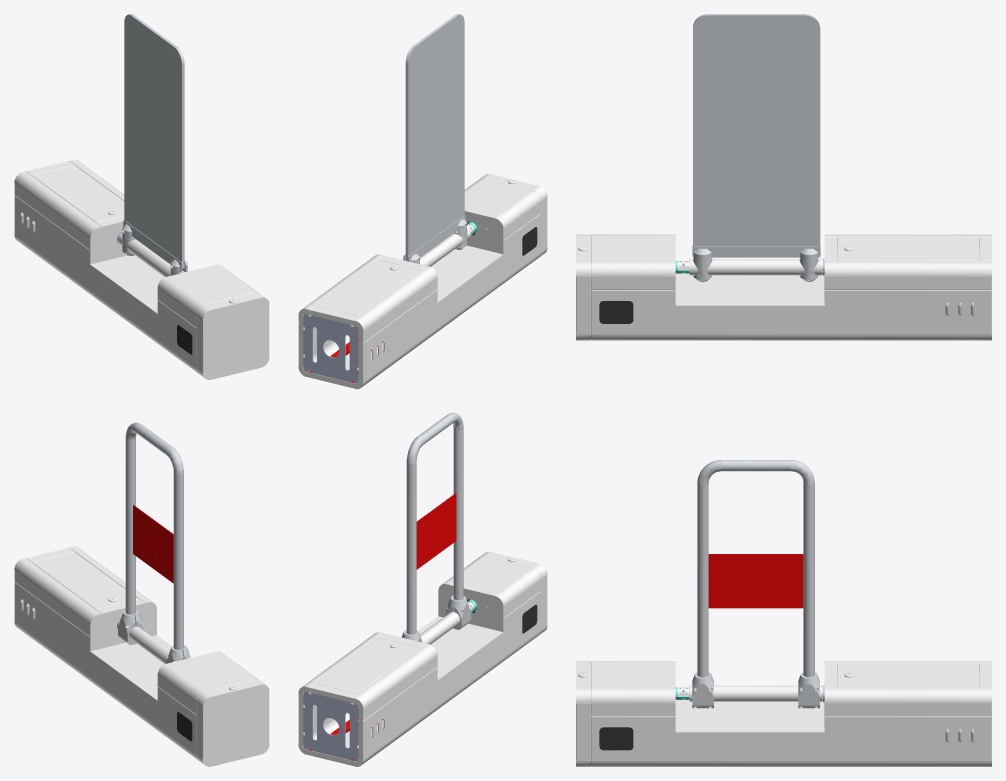
The picture shows the model from 3 angles, left to right: view 1: azimuth 30°, elevation 25°; view 2: azimuth 150°, elevation 25°; view 3: azimuth 270°, elevation 25°; orthographic projection. The views are drawn at different scales.
Parts seen in each view (by area): view 1: SOLID_5, X310-01-01-01-01, X310-01-01-01-01_2, X310-01-01-01-09, X310-01-01-01-09_2, X310-01-01-01-03_2, X310-01-01-01-03, X310-01-01-01-02_2, X310-01-01-01-02, X310-01-01-01-07_2, X310-01-01-01-07, X310-01-01-01-04_3 (+10 smaller); view 2: SOLID_5, X310-01-01-01-01, X310-01-01-01-01_2, X310-01-01-01-03_2, X310-01-01-01-03, X310-01-01-01-02_2, X310-01-01-01-12_2, X310-01-01-01-12, X310-01-01-01-02, X310-01-01-01-07, X310-01-01-01-07_2, X310-01-01-01-04_3 (+13 smaller); view 3: SOLID_5, X310-01-01-01-01_2, X310-01-01-01-01, X310-01-01-03, X310-01-01-01-04_4, X310-01-01-01-04_2, X310-01-01-01-02_2, X310-01-01-01-02, X310-01-01-01-03_2, X310-01-01-01-03, X310-01-01-01-07_2, X310-01-01-01-07 (+12 smaller).
Boxes of the visible parts, bbox=[...] form: SOLID_5: bbox=[124, 14, 184, 268]; X310-01-01-01-01: bbox=[14, 195, 197, 372]; X310-01-01-01-01_2: bbox=[14, 582, 197, 759]; X310-01-01-01-09: bbox=[196, 297, 269, 379]; X310-01-01-01-09_2: bbox=[196, 684, 269, 766]; X310-01-01-01-03_2: bbox=[90, 602, 217, 700]; X310-01-01-01-03: bbox=[90, 221, 216, 313]; X310-01-01-01-02_2: bbox=[158, 651, 258, 714]; X310-01-01-01-02: bbox=[158, 264, 258, 327]; X310-01-01-01-07_2: bbox=[32, 552, 138, 609]; X310-01-01-01-07: bbox=[32, 165, 124, 222]; X310-01-01-01-04_3: bbox=[14, 558, 100, 636]; SOLID_5: bbox=[405, 14, 464, 261]; X310-01-01-01-01: bbox=[298, 213, 540, 388]; X310-01-01-01-01_2: bbox=[298, 591, 540, 766]; X310-01-01-01-03_2: bbox=[380, 584, 503, 680]; X310-01-01-01-03: bbox=[378, 211, 503, 302]; X310-01-01-01-02_2: bbox=[442, 556, 540, 617]; X310-01-01-01-12_2: bbox=[303, 692, 358, 761]; X310-01-01-01-12: bbox=[303, 314, 358, 383]; X310-01-01-01-02: bbox=[464, 179, 540, 239]; X310-01-01-01-07: bbox=[316, 260, 420, 316]; X310-01-01-01-07_2: bbox=[316, 637, 419, 693]; X310-01-01-01-04_3: bbox=[352, 644, 437, 720]; SOLID_5: bbox=[693, 14, 820, 251]; X310-01-01-01-01_2: bbox=[591, 690, 991, 766]; X310-01-01-01-01: bbox=[591, 263, 991, 340]; X310-01-01-03: bbox=[708, 554, 803, 608]; X310-01-01-01-04_4: bbox=[825, 687, 991, 716]; X310-01-01-01-04_2: bbox=[825, 261, 991, 289]; X310-01-01-01-02_2: bbox=[591, 661, 675, 716]; X310-01-01-01-02: bbox=[591, 234, 675, 289]; X310-01-01-01-03_2: bbox=[675, 661, 824, 732]; X310-01-01-01-03: bbox=[675, 235, 824, 305]; X310-01-01-01-07_2: bbox=[837, 664, 979, 687]; X310-01-01-01-07: bbox=[837, 238, 979, 260].
Bounding box in the file's own units: 212 × 1919 × 980.
